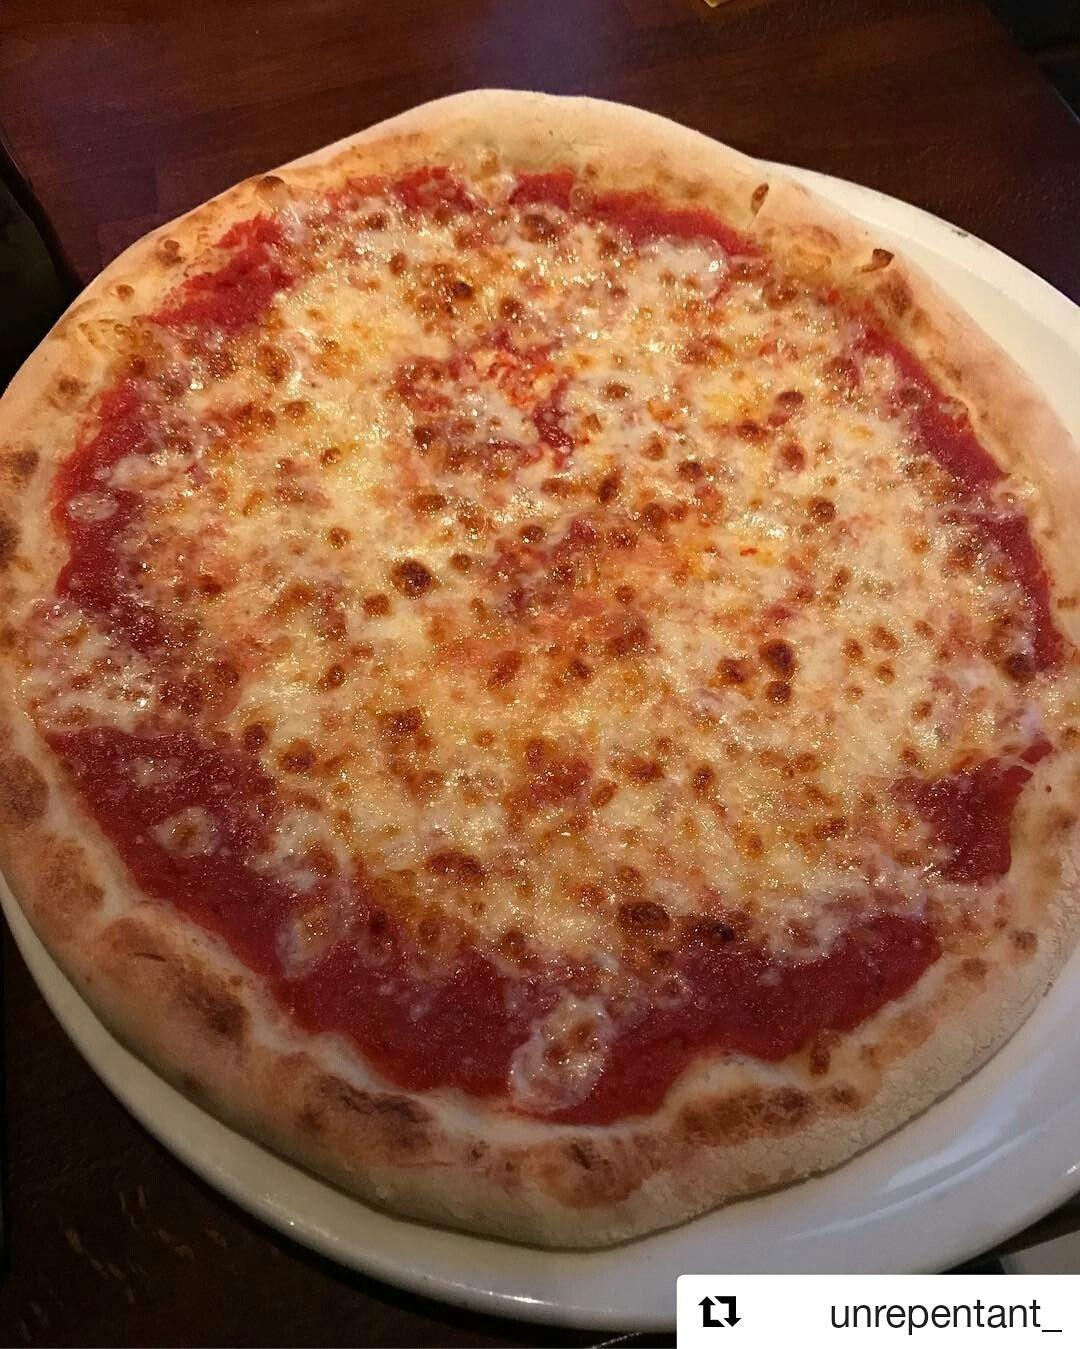Pizza: (0, 86, 1080, 1247)
